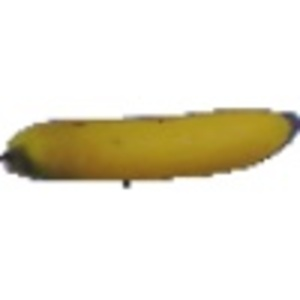banana: (3, 102, 298, 182)
